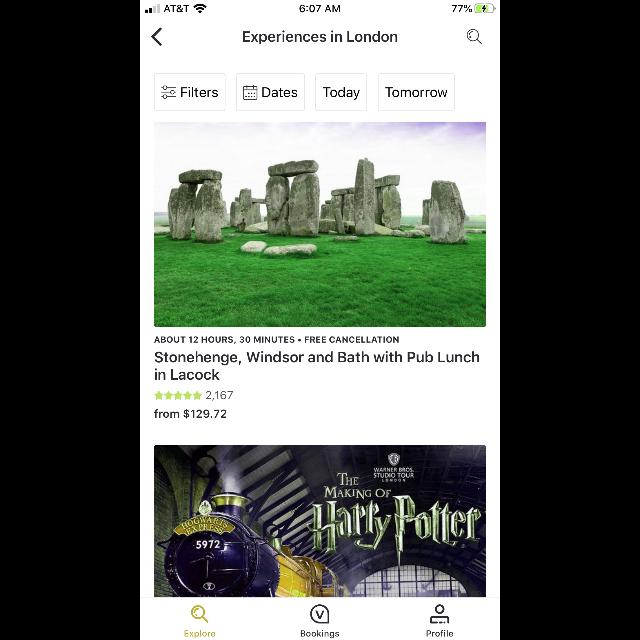icon: (156, 390, 202, 400), (430, 604, 450, 624), (192, 606, 208, 622), (466, 30, 482, 44), (152, 28, 162, 46)
image: (154, 122, 486, 328), (154, 445, 486, 597), (310, 604, 330, 624)
text: (155, 351, 479, 365), (243, 31, 397, 45), (155, 336, 399, 344), (154, 409, 226, 419), (156, 368, 220, 379), (301, 630, 339, 638), (207, 391, 233, 401), (184, 630, 216, 638), (427, 630, 453, 636)
textbutton: (378, 73, 454, 111), (154, 73, 226, 111), (237, 73, 306, 111), (315, 73, 367, 111)
uppertaskbar: (140, 0, 500, 14)
